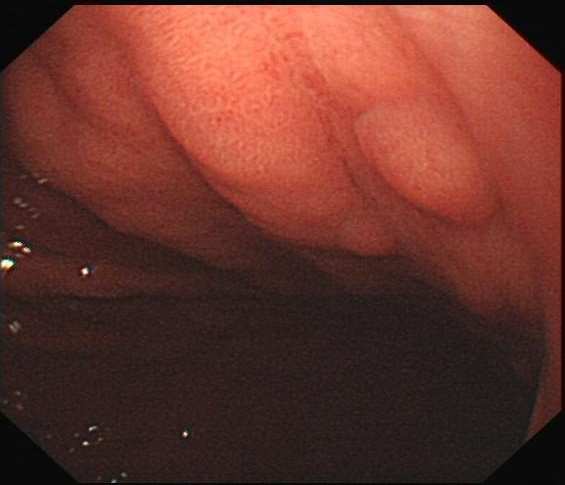Polyp: (349, 96, 502, 227)
